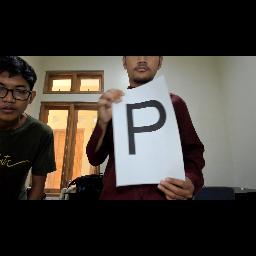p: (119, 96, 173, 170)
